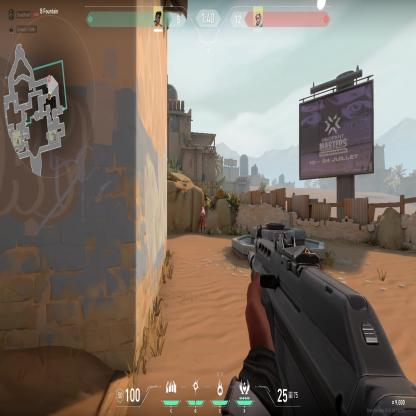enemy: (200, 206, 206, 235)
